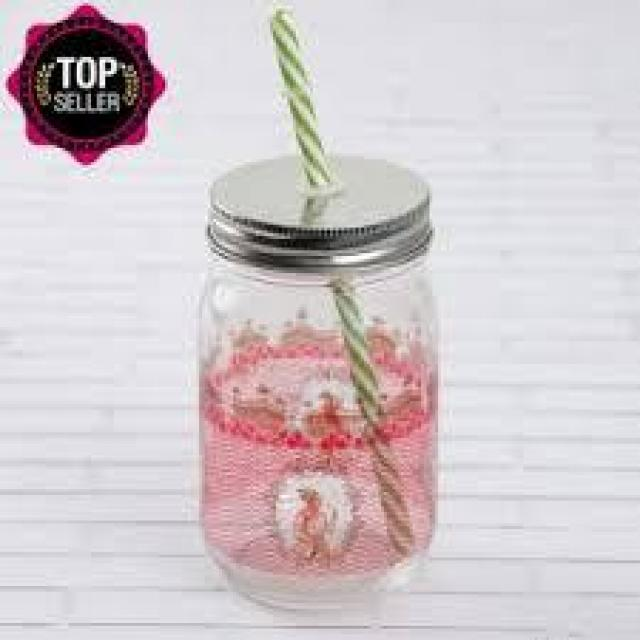non-organic waste: (192, 154, 442, 608)
